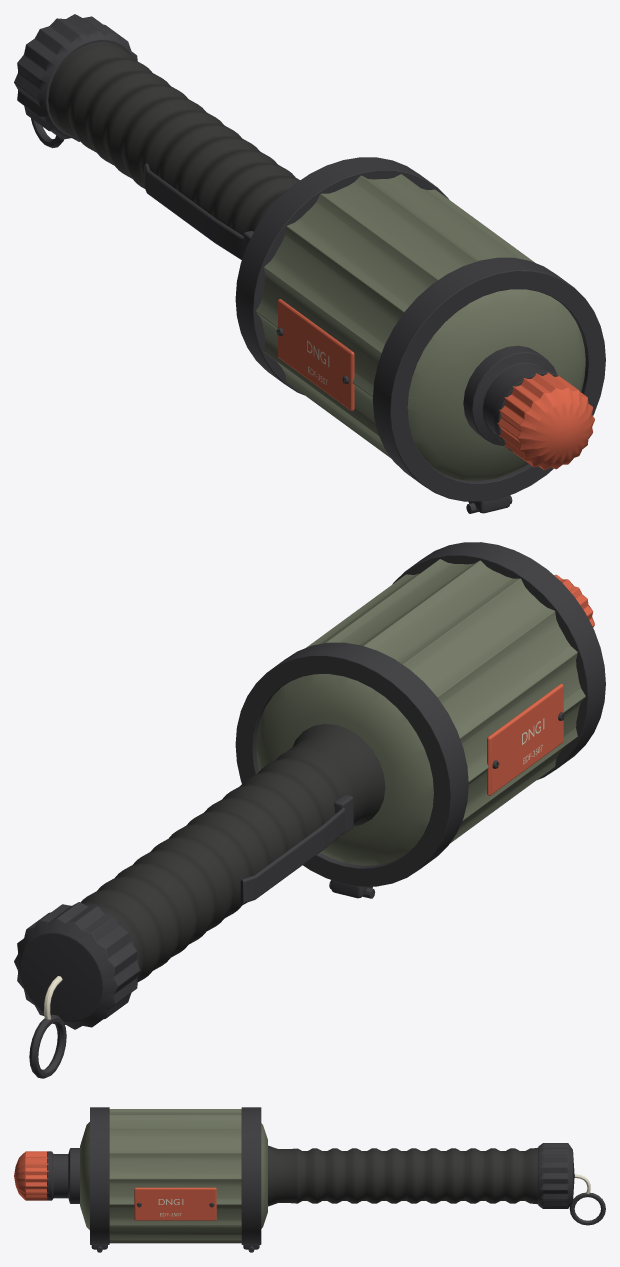
Rendered from dng.glb.
The picture shows the model from 3 angles, top to bottom: view 1: azimuth 30°, elevation 25°; view 2: azimuth 150°, elevation 25°; view 3: azimuth 270°, elevation 25°; orthographic projection. The views are drawn at different scales.
Parts seen in each view (by area): view 1: Body; view 2: Body; view 3: Body.
Part boxes in pixels (bbox=[...]): Body: bbox=[14, 14, 605, 513]; Body: bbox=[14, 542, 605, 1078]; Body: bbox=[14, 1107, 605, 1252].
Size of the model in its own units: 0.0854 by 0.0895 by 0.359.
